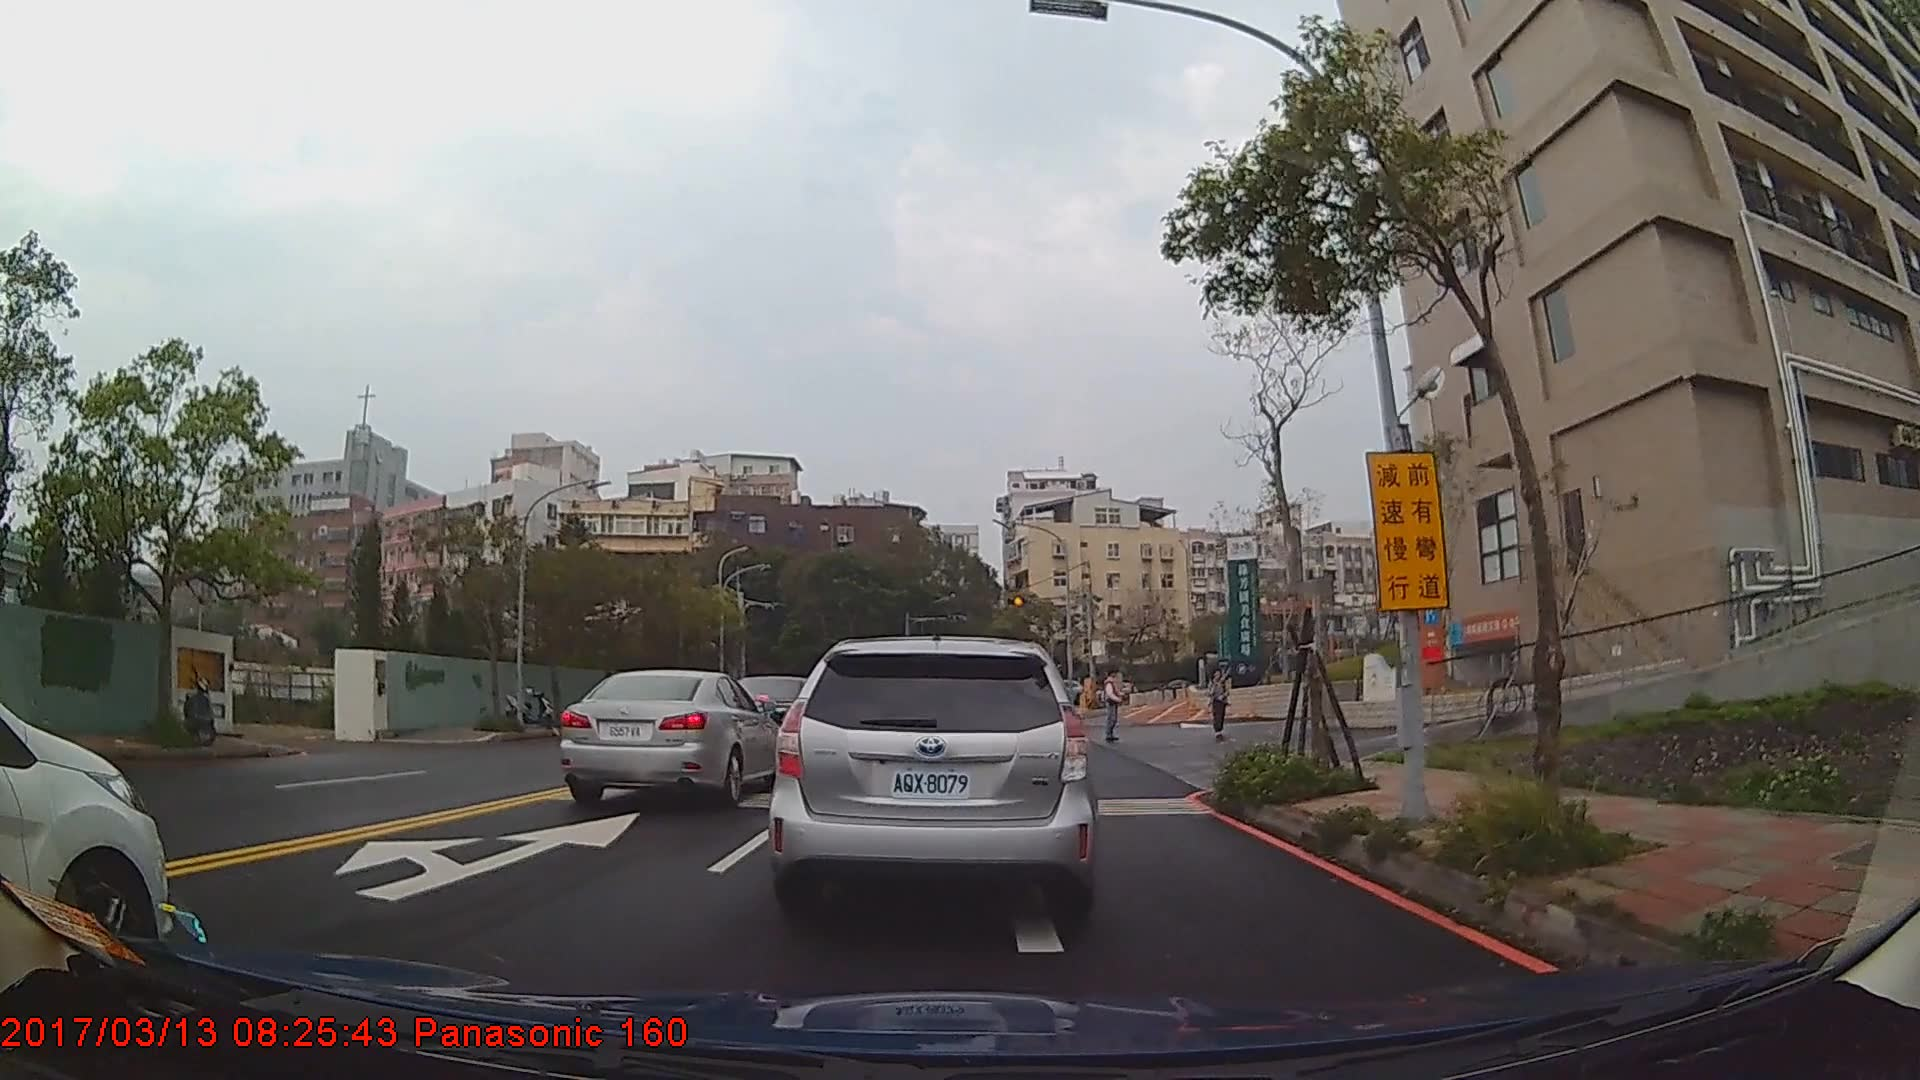pedestrian: (1101, 668, 1128, 743), (1209, 668, 1234, 741)
vehicle: (768, 635, 1100, 911), (0, 698, 167, 962), (560, 668, 789, 804)
